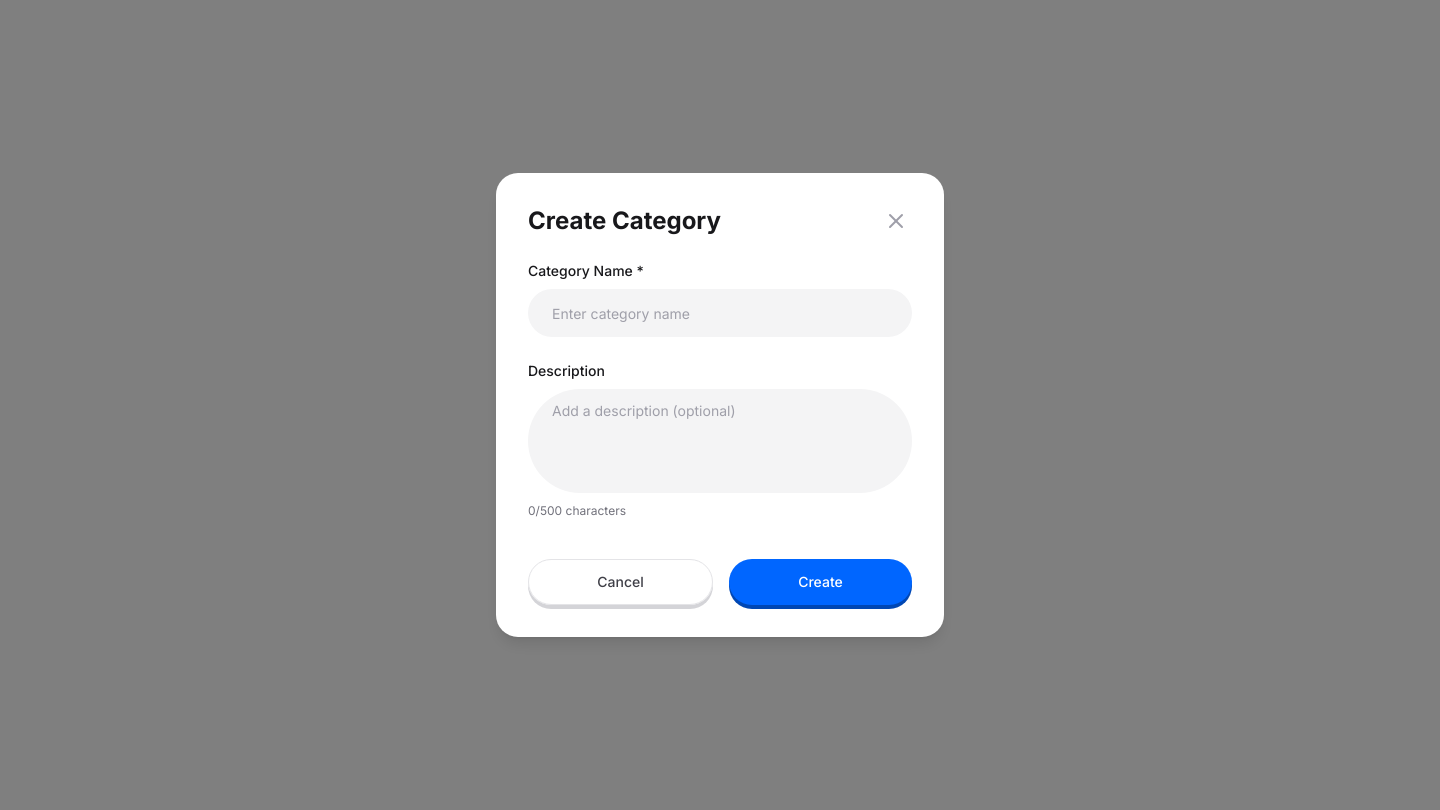
Test: CreateCategoryModal Component › Category Name Validation › should validate on input change when error exists
Note: Trigger error
Click the field labelled "Category Name *". click: {"x": 720, "y": 313}
box: [528, 289, 912, 337]
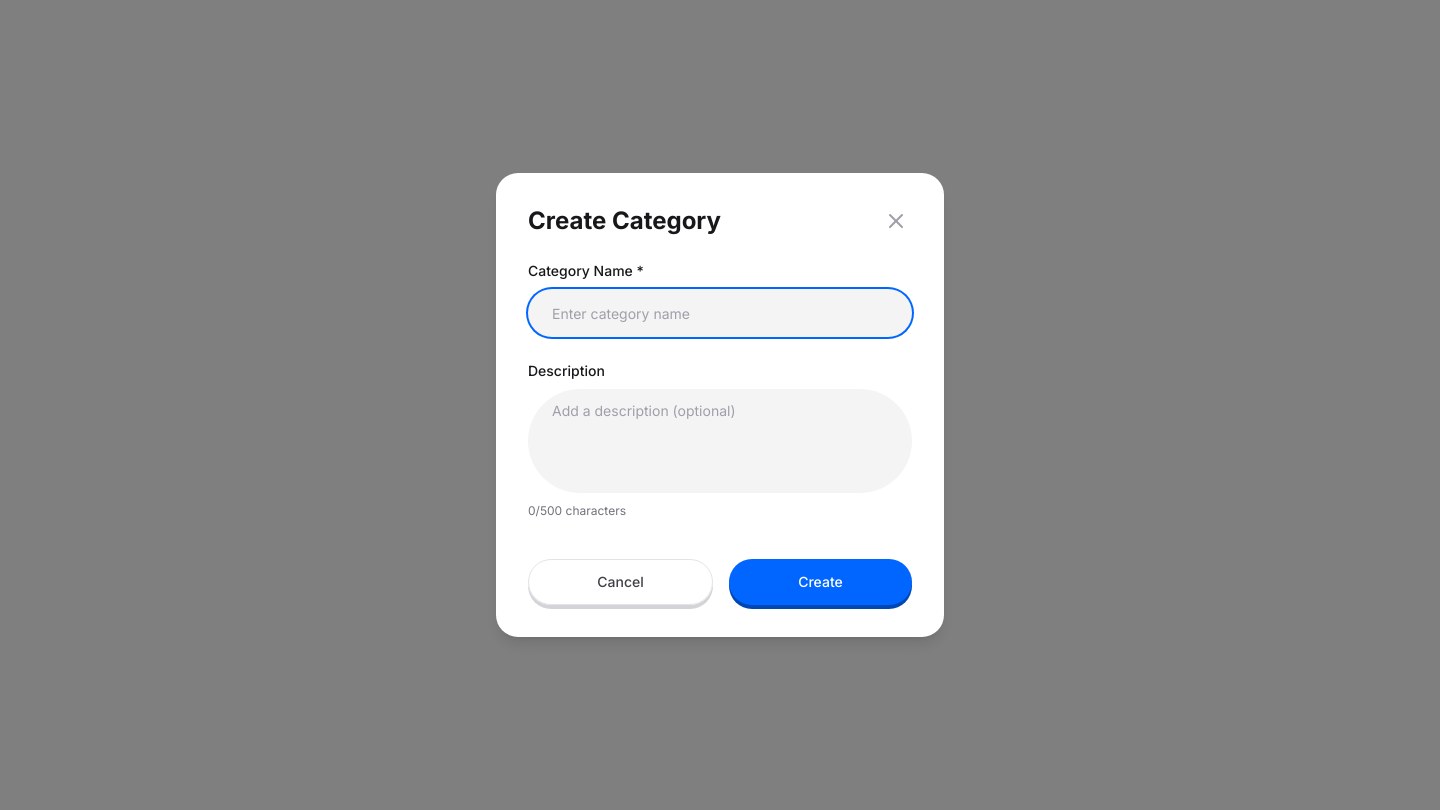
Press Tab
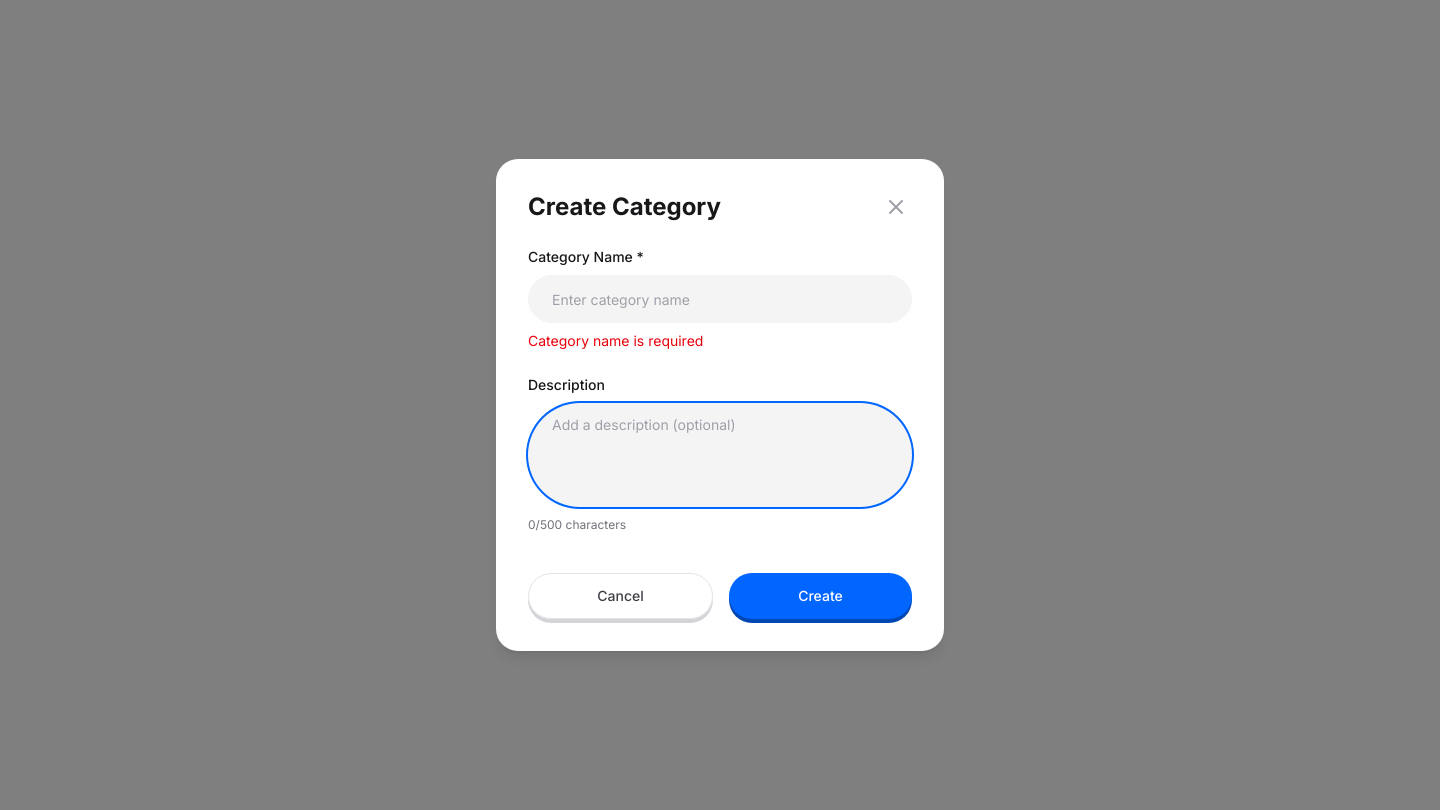
Result: the text "Category name is required" is shown at [528, 332, 703, 349]
Note: Start typing - error should clear
Type "M" into the field labelled "Category Name *". click: {"x": 720, "y": 299}
box: [528, 275, 912, 323]
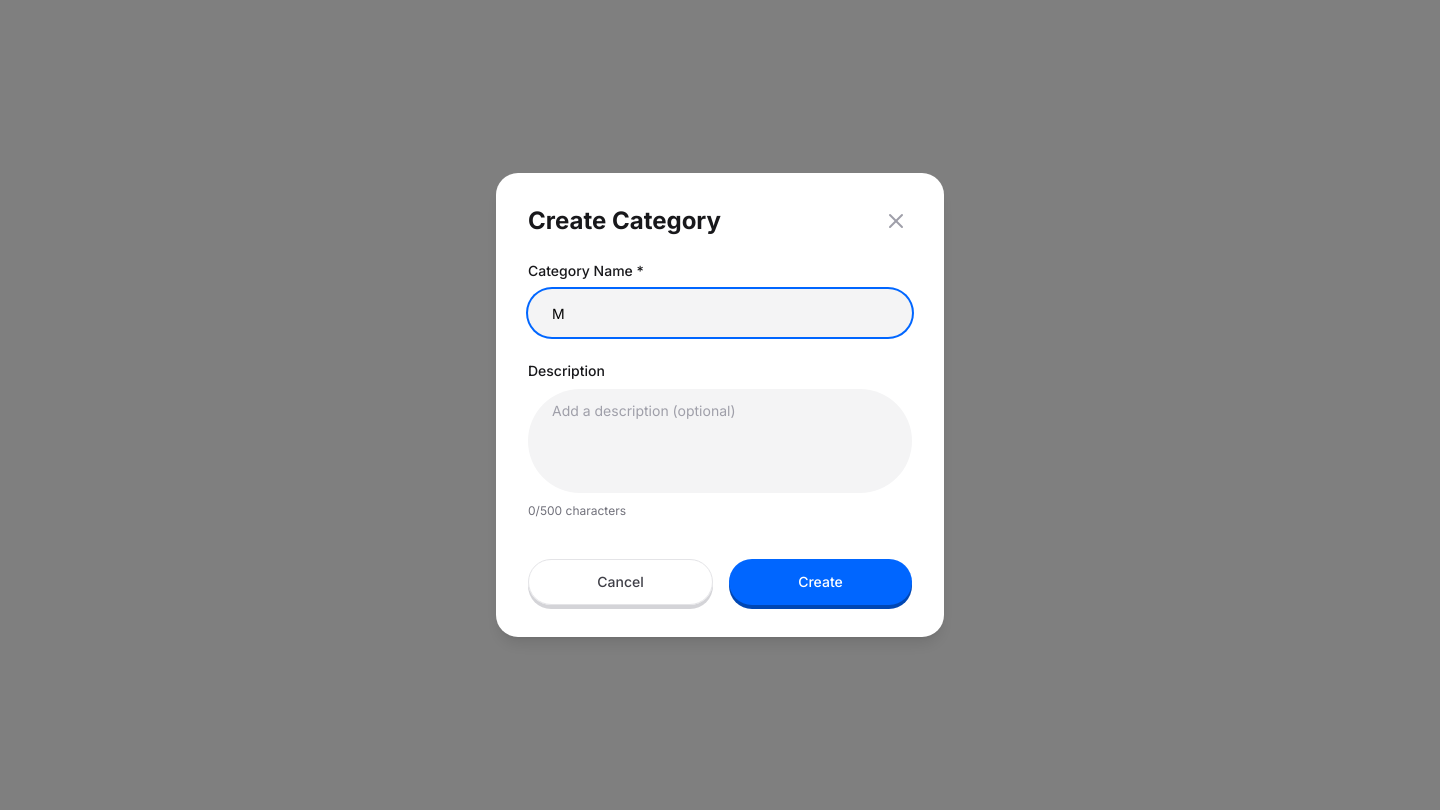
Result: the text "Category name is required" is gone
